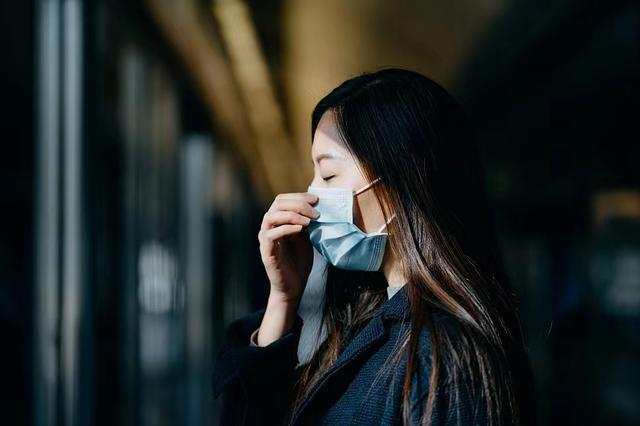mask: (307, 114, 412, 280)
